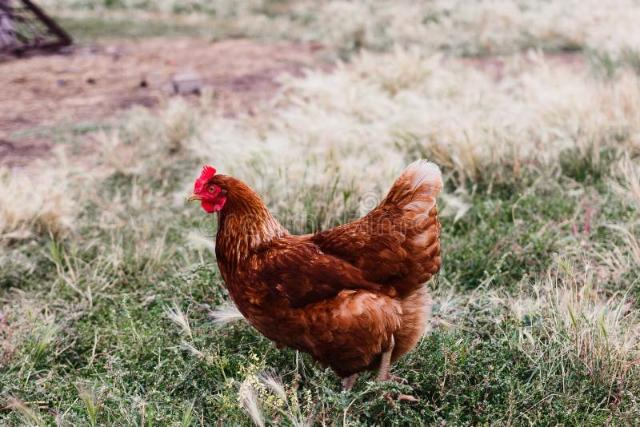Chicken: (188, 158, 443, 404)
